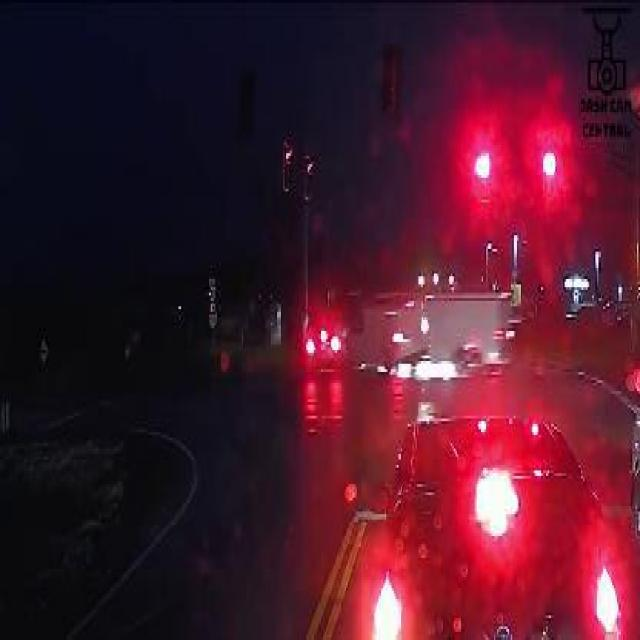accident: (302, 284, 432, 378)
